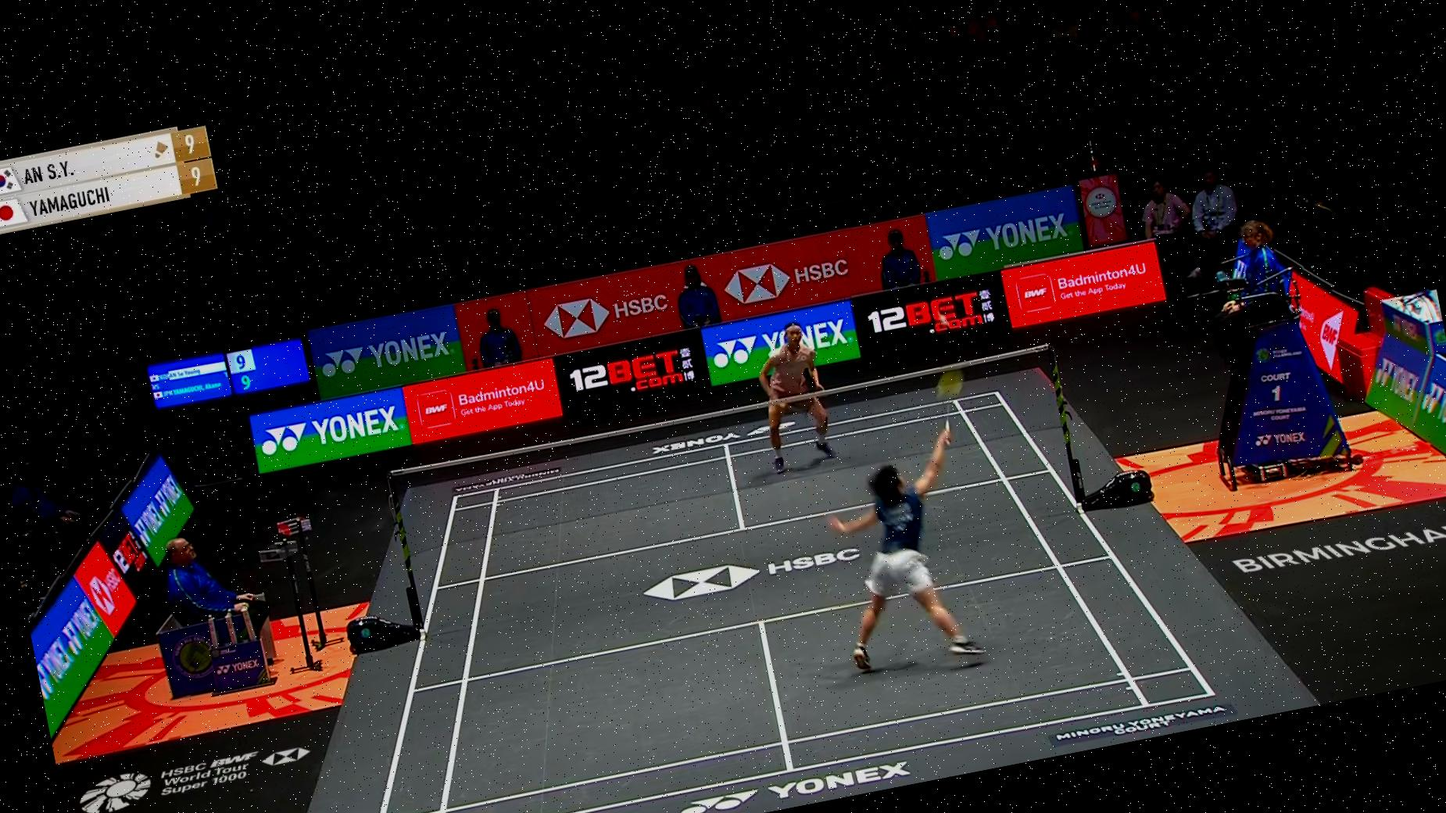Player 1: (739, 309, 855, 479)
Player 2: (819, 447, 1011, 697)
shuttle: (935, 305, 955, 329)
